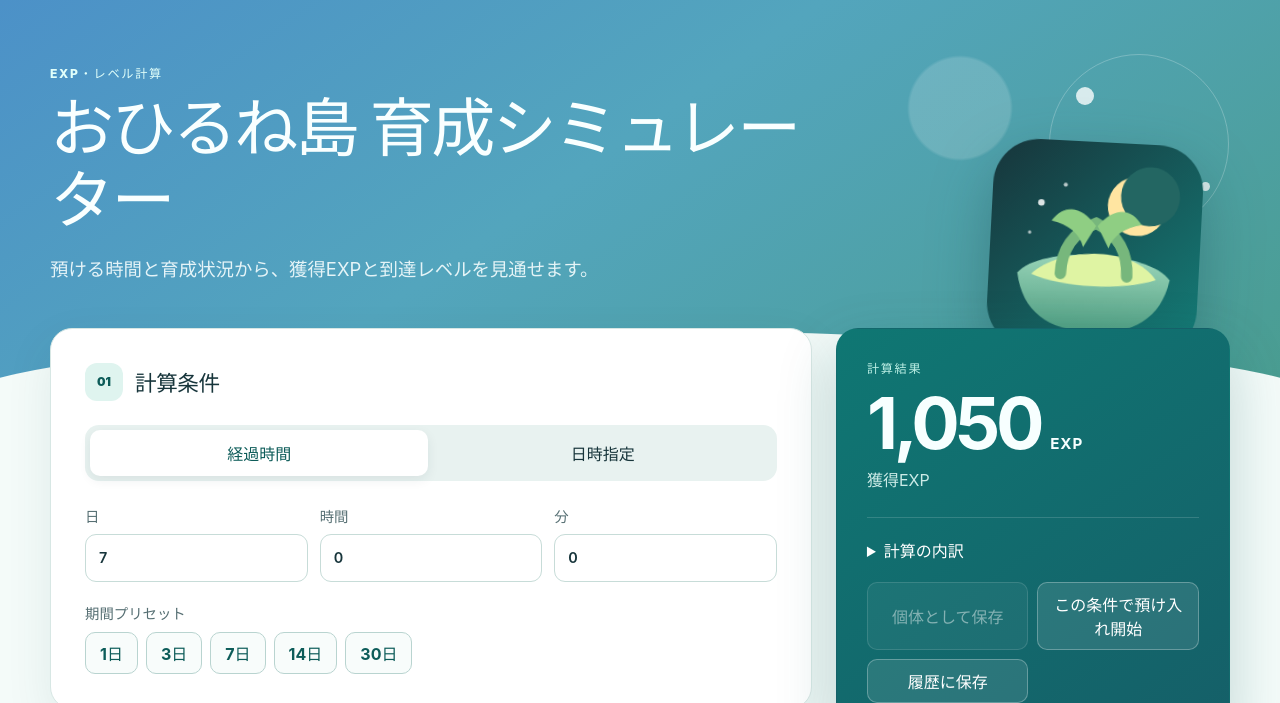
Test: CalculatorPage › switches to datetime inputs
The width and height of the screenshot is (1280, 703).
Click the tab "日時指定" at (603, 452), box top-left (434, 430), bottom-right (772, 476)
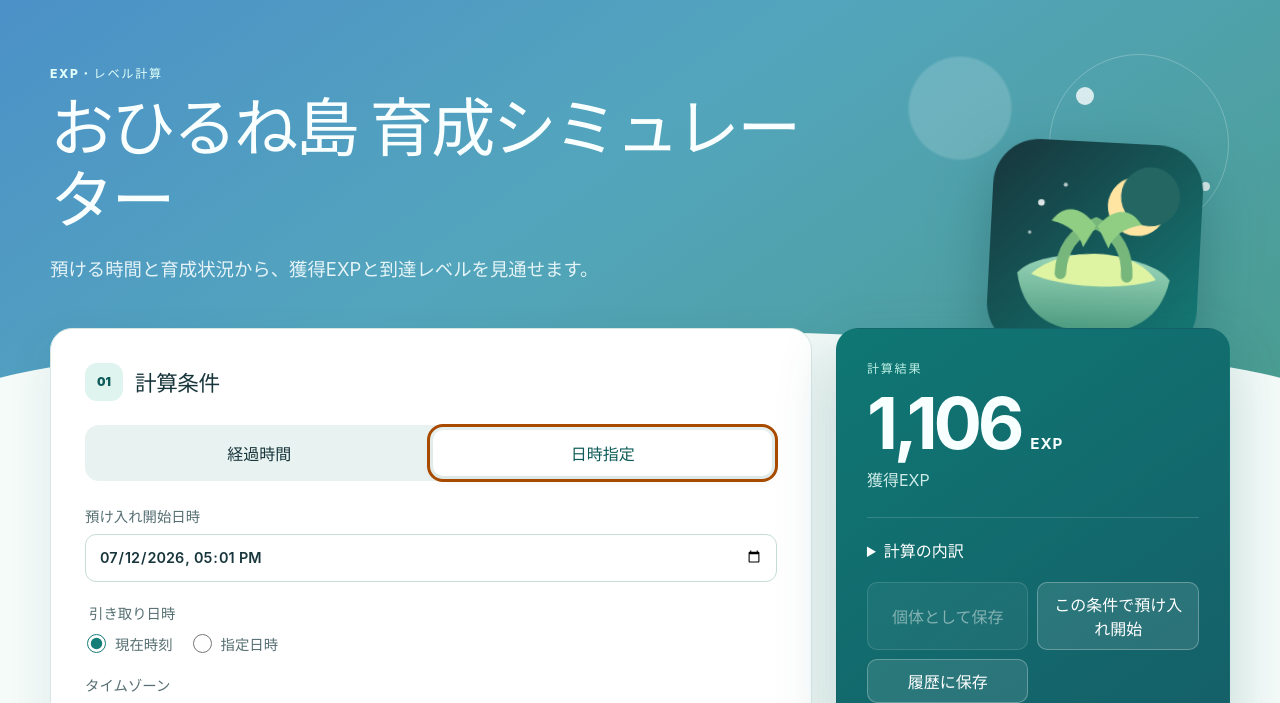
Expected: the field labelled "預け入れ開始日時" is shown, top-left (85, 534), bottom-right (777, 582)
Expected: the radio button labelled "現在時刻" is checked, top-left (87, 634), bottom-right (106, 652)
